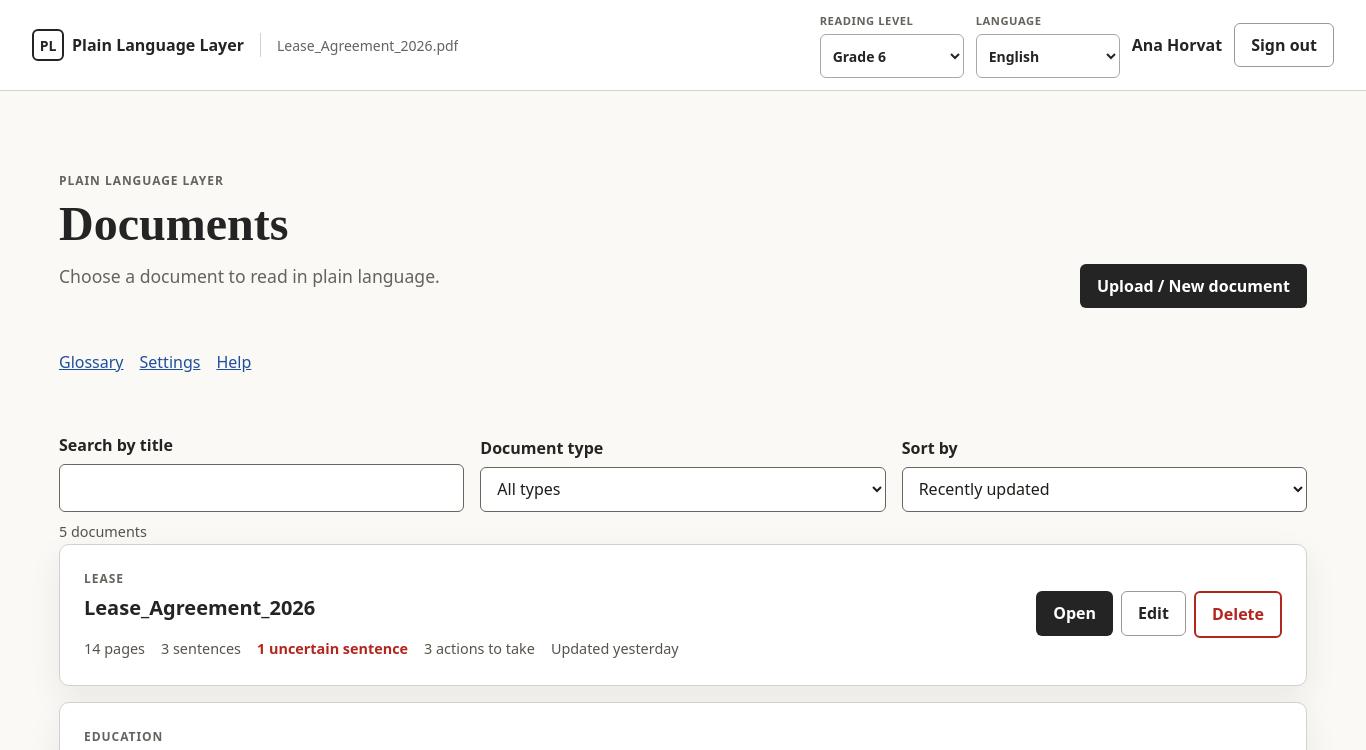
Test: documents list (screens 04 / 06) › delete failure keeps the dialog open and shows a translated error
Expected: the heading "Lease_Agreement_2026" is shown, [84,594,315,621]
Click the button with aria-label "Delete Lease_Agreement_2026" at (1238, 615), box [1194,592,1282,638]
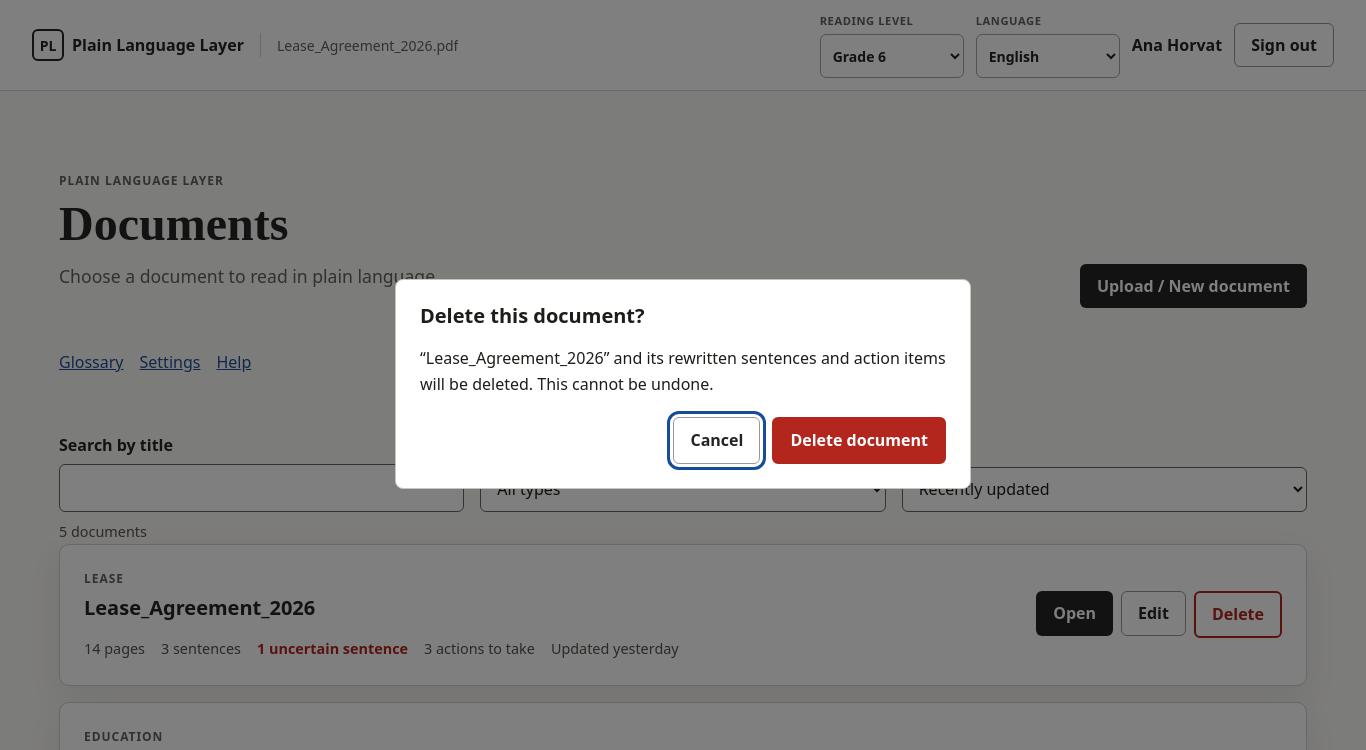
Click the button "Delete document" at (859, 441), box [772,418,946,464]
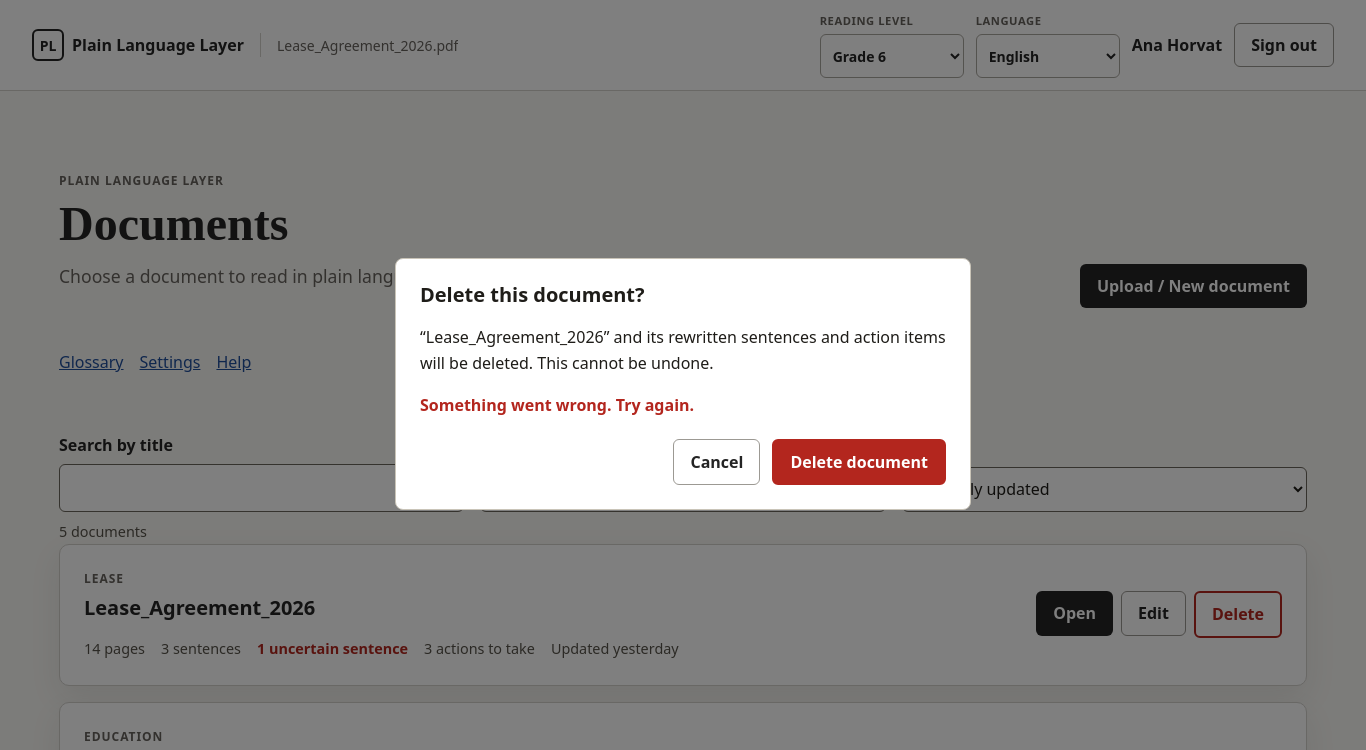
Expected: the heading "Lease_Agreement_2026" is shown, [84,594,315,621]
Expected: the message "Something went wrong. Try again." is shown, [420,394,694,416]
